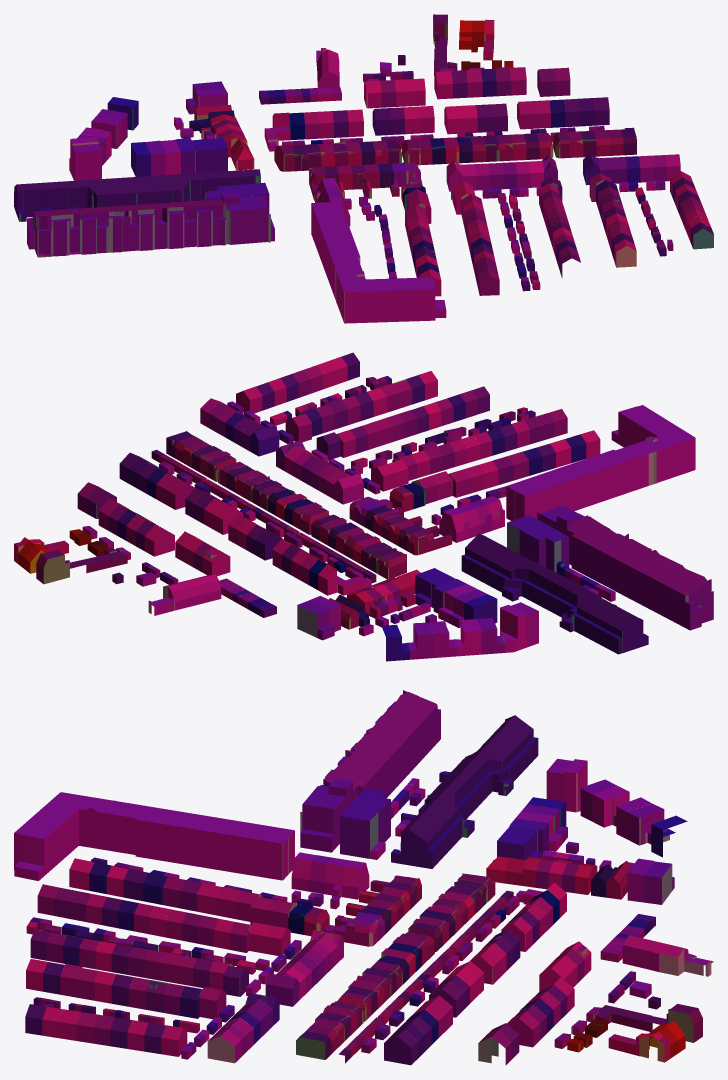
File: buildings_12_13.glb
The picture shows the model from 3 angles, top to bottom: view 1: azimuth 30°, elevation 25°; view 2: azimuth 150°, elevation 25°; view 3: azimuth 270°, elevation 25°; orthographic projection. The views are drawn at different scales.
Parts seen in each view (by area): view 1: buildings_12_13; view 2: buildings_12_13; view 3: buildings_12_13.
Part boxes in pixels (x1,y1,x2,y2): buildings_12_13: (14,14,713,323); buildings_12_13: (14,352,713,661); buildings_12_13: (14,690,713,1065).
Size of the model in its own units: 244 by 16.66 by 219.
